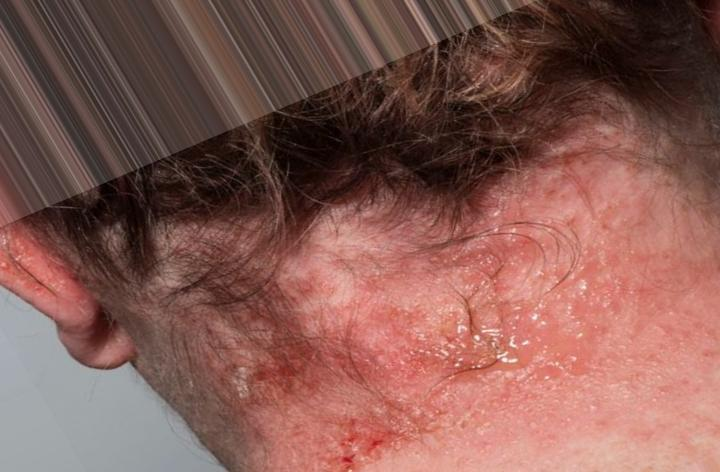Contact Dermatitis: (121, 200, 695, 423)
